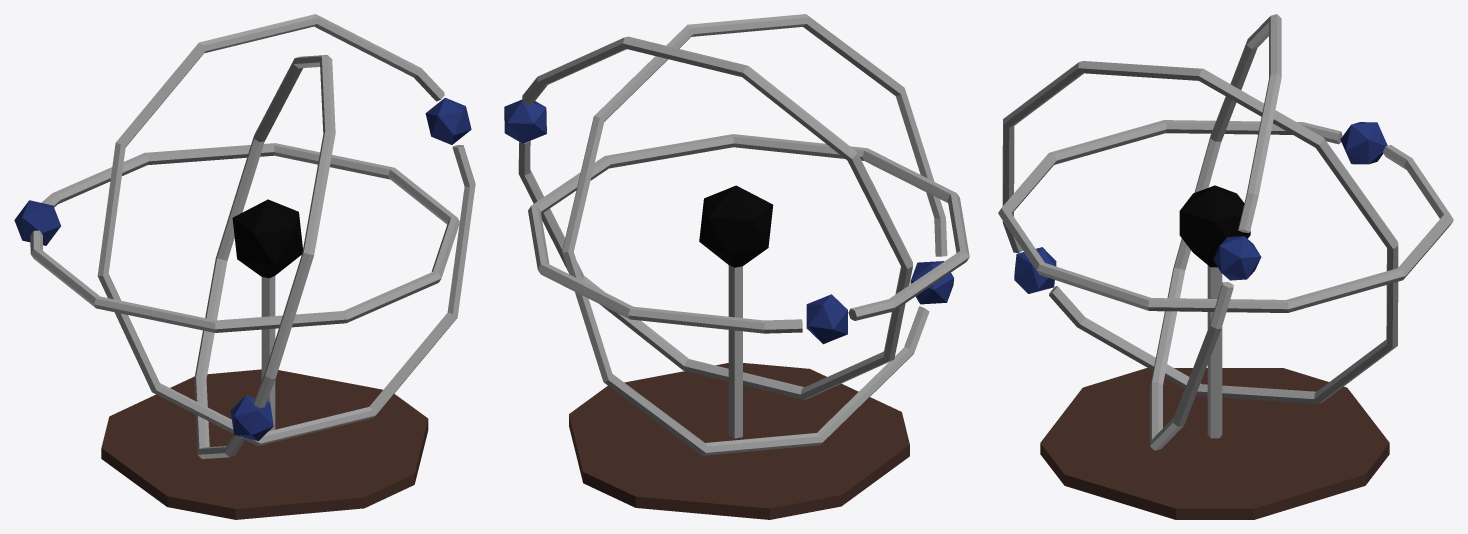
File: atom_element.fbx
3 renders of one model, left to right at view 1: azimuth 30°, elevation 25°; view 2: azimuth 150°, elevation 25°; view 3: azimuth 270°, elevation 25°, orthographic. The views are drawn at different scales.
Parts seen in each view (by area): view 1: Electrons, Atomcore; view 2: Electrons, Atomcore; view 3: Atomcore, Electrons.
Part boxes in pixels (bbox=[...]): Electrons: bbox=[14, 14, 475, 458]; Atomcore: bbox=[101, 199, 428, 519]; Electrons: bbox=[504, 14, 969, 455]; Atomcore: bbox=[569, 185, 909, 519]; Atomcore: bbox=[1040, 185, 1389, 519]; Electrons: bbox=[998, 14, 1453, 450].
Size of the model in its own units: 105 by 96.69 by 96.58.
